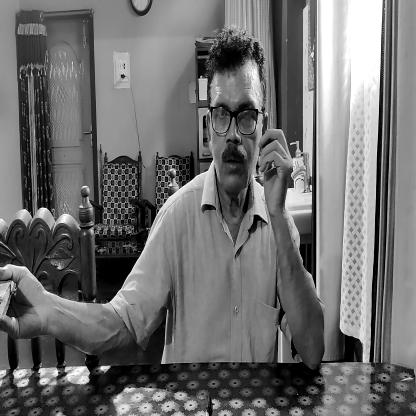Normal: (196, 23, 266, 203)
